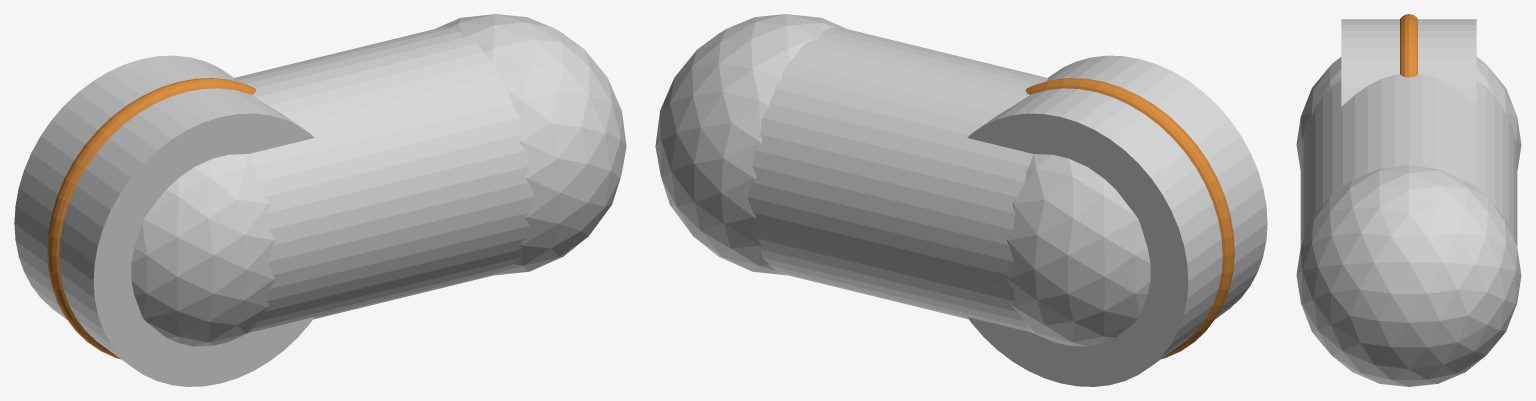
3 renders of one model, left to right at view 1: azimuth 30°, elevation 25°; view 2: azimuth 150°, elevation 25°; view 3: azimuth 270°, elevation 25°, orthographic. The views are drawn at different scales.
Parts seen in each view (by area): view 1: link6_body.stl, link6_ring.stl; view 2: link6_body.stl, link6_ring.stl; view 3: link6_body.stl, link6_ring.stl.
Boxes of the visible parts, x1,y1,x2,y2 form: link6_body.stl: [14, 14, 626, 386]; link6_ring.stl: [47, 78, 256, 359]; link6_body.stl: [655, 14, 1267, 386]; link6_ring.stl: [1025, 78, 1234, 359]; link6_body.stl: [1296, 19, 1521, 386]; link6_ring.stl: [1400, 14, 1417, 77].
Size of the model in its own units: 0.2859 by 0.1353 by 0.1165.
